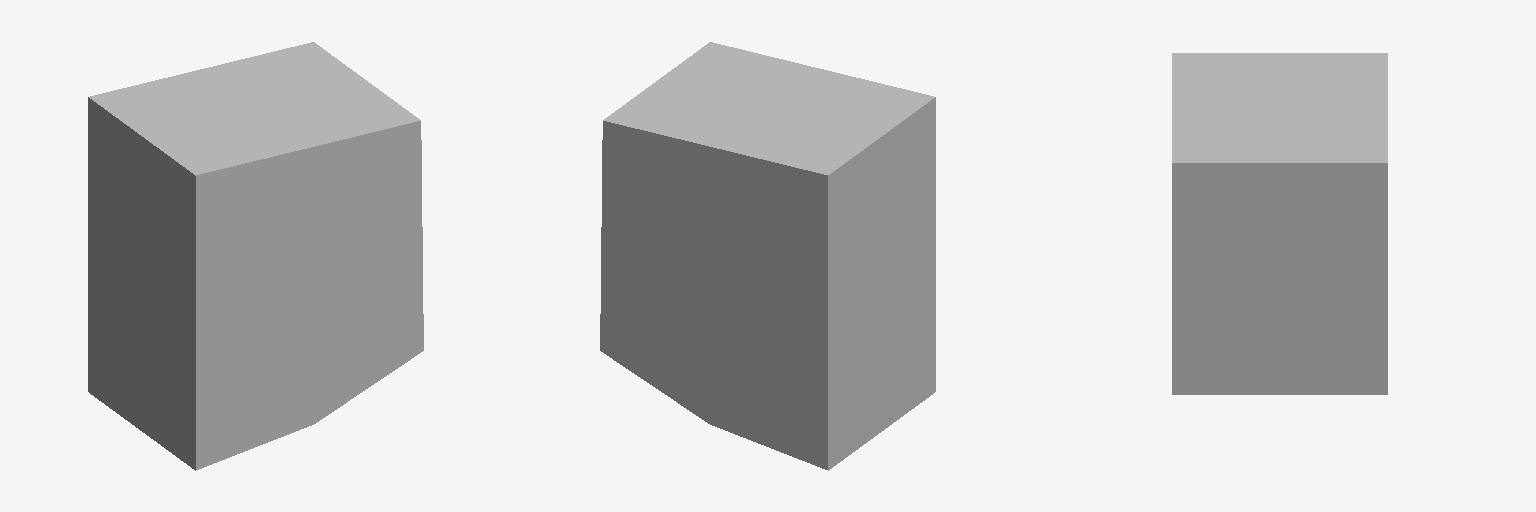
The model's file is hole_collision_16.obj.
3 views of the same model, side by side, from view 1: azimuth 30°, elevation 25°; view 2: azimuth 150°, elevation 25°; view 3: azimuth 270°, elevation 25° (orthographic).
Bounding box in the file's own units: 0.0245 × 0.0303 × 0.02.